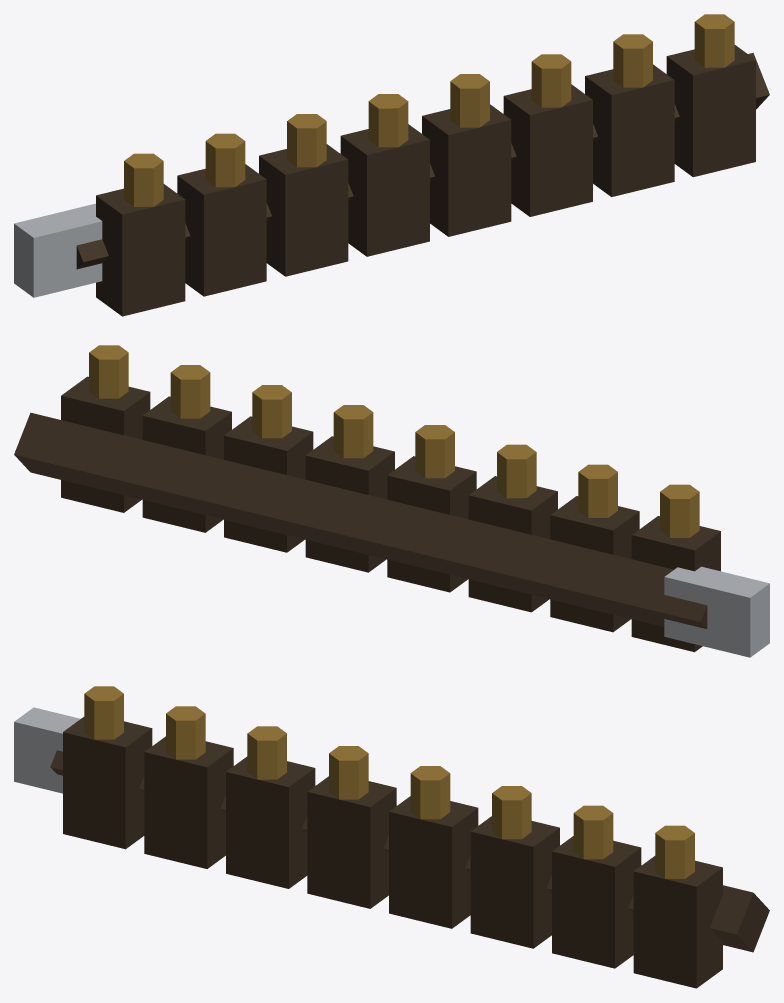
File: bandolier.glb
The picture shows the model from 3 angles, top to bottom: view 1: azimuth 30°, elevation 25°; view 2: azimuth 150°, elevation 25°; view 3: azimuth 330°, elevation 25°; orthographic projection.
Visible parts, largest first — view 1: m; view 2: m; view 3: m.
Boxes of the visible parts, x1,y1,x2,y2 form: m: [14, 14, 769, 316]; m: [14, 345, 769, 657]; m: [14, 686, 769, 988].
Size of the model in its own units: 0.26 by 0.0479 by 0.0285.
